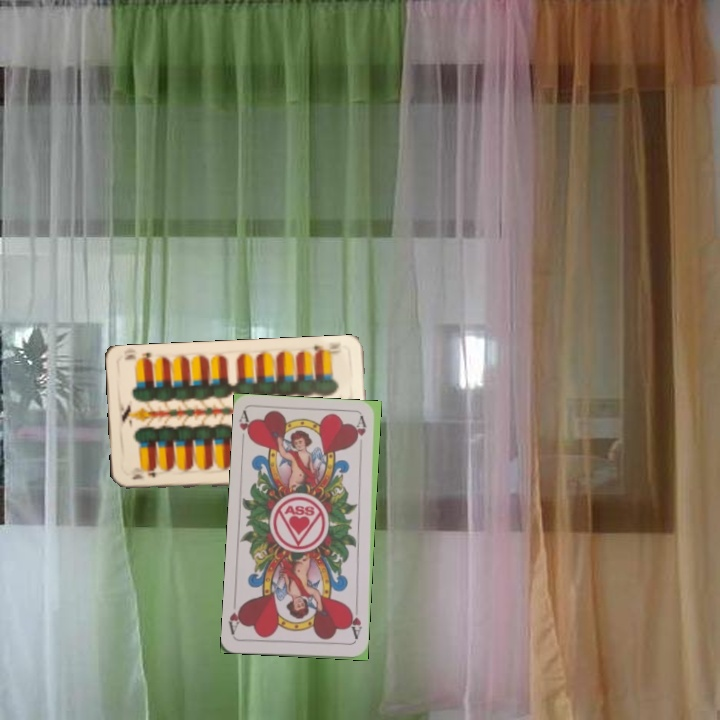E10: (309, 341, 342, 359), (128, 468, 158, 482)
HA: (235, 408, 255, 449), (345, 603, 364, 644)
